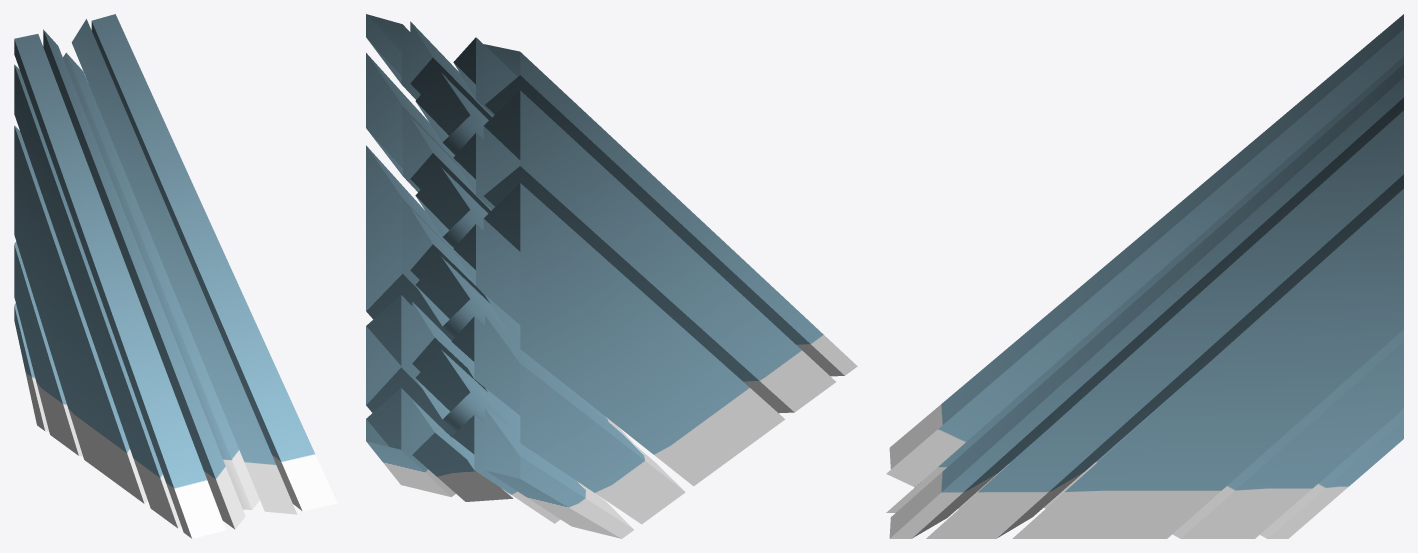
Rendered from WindowGodRays.FBX.
3 renders of one model, left to right at view 1: azimuth 30°, elevation 25°; view 2: azimuth 150°, elevation 25°; view 3: azimuth 270°, elevation 25°, orthographic. The views are drawn at different scales.
Visible parts, largest first — view 1: Box06; view 2: Box06; view 3: Box06.
Boxes of the visible parts, x1,y1,x2,y2 form: Box06: (14, 14, 337, 538); Box06: (366, 14, 857, 538); Box06: (886, 14, 1403, 538).
Bounding box in the file's own units: 24.58 × 56.6 × 58.93.
